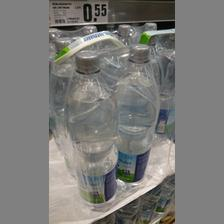Wasser: (62, 49, 118, 212), (114, 45, 158, 188)
